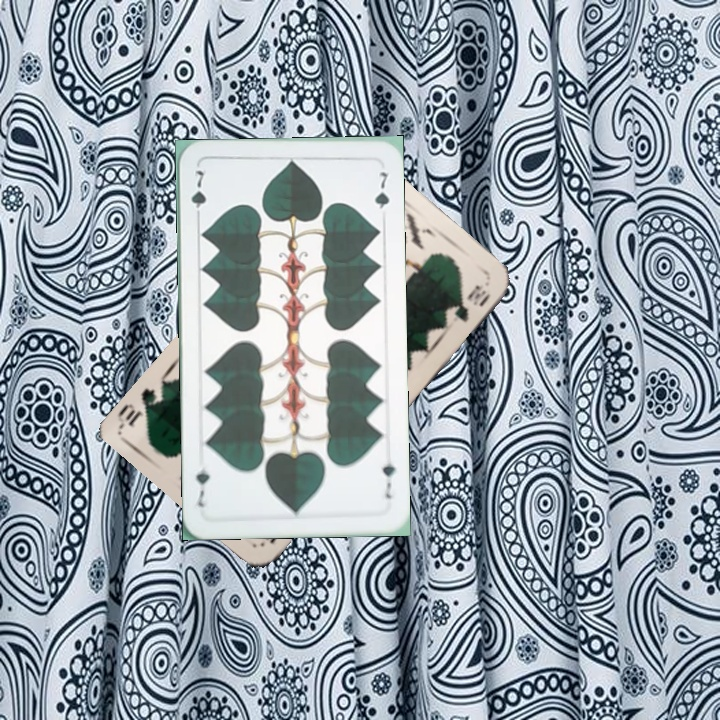G7: (187, 166, 209, 223), (378, 459, 397, 501)
